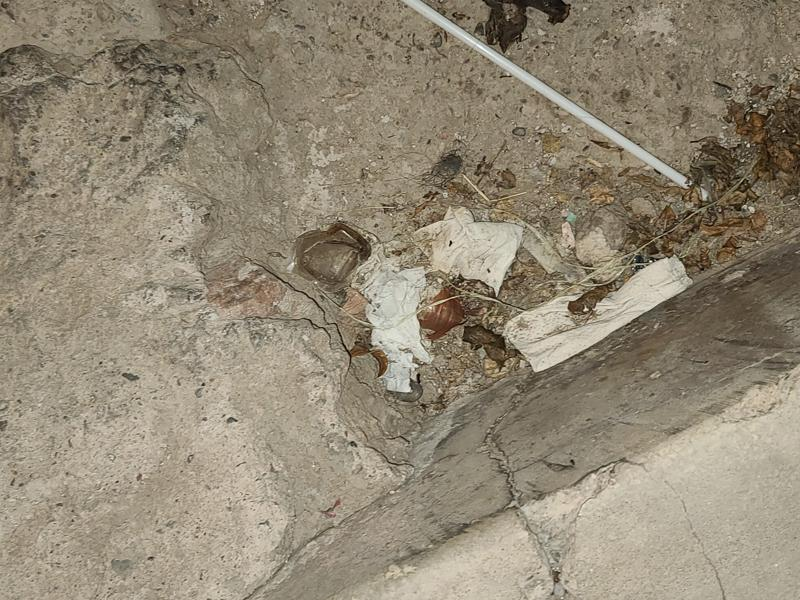papel: (514, 260, 692, 373)
